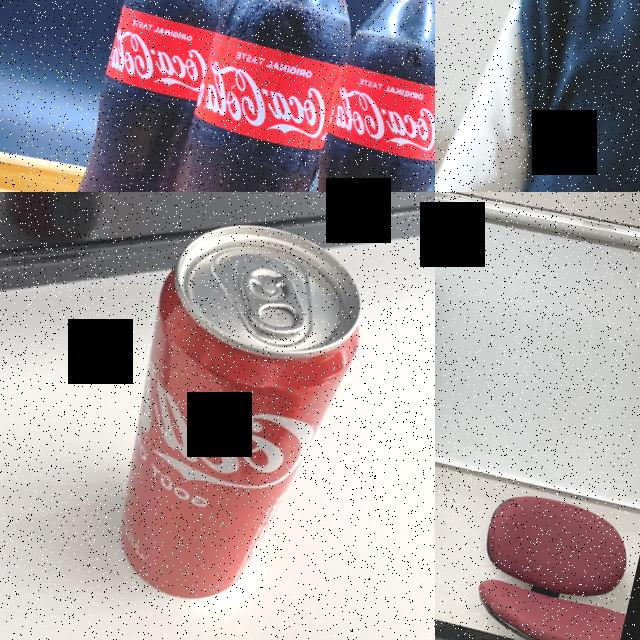bottle: (149, 0, 387, 192), (50, 0, 252, 192), (281, 0, 435, 192)
can: (87, 206, 381, 632)
